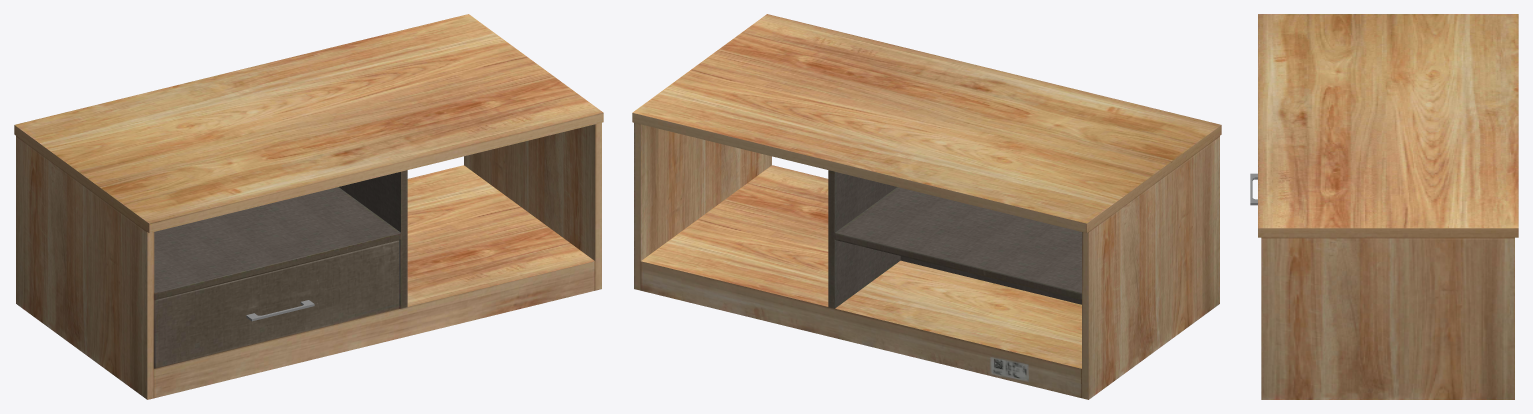
Rendered from moxing.obj.
3 views of the same model, side by side, from view 1: azimuth 30°, elevation 25°; view 2: azimuth 150°, elevation 25°; view 3: azimuth 270°, elevation 25° (orthographic). The views are drawn at different scales.
Visible parts, largest first — view 1: Box001; view 2: Box001; view 3: Box001.
Boxes of the visible parts, x1,y1,x2,y2 form: Box001: (14, 14, 603, 399); Box001: (632, 14, 1221, 399); Box001: (1250, 14, 1518, 399).
Size of the model in its own units: 1191 by 445 by 630.
